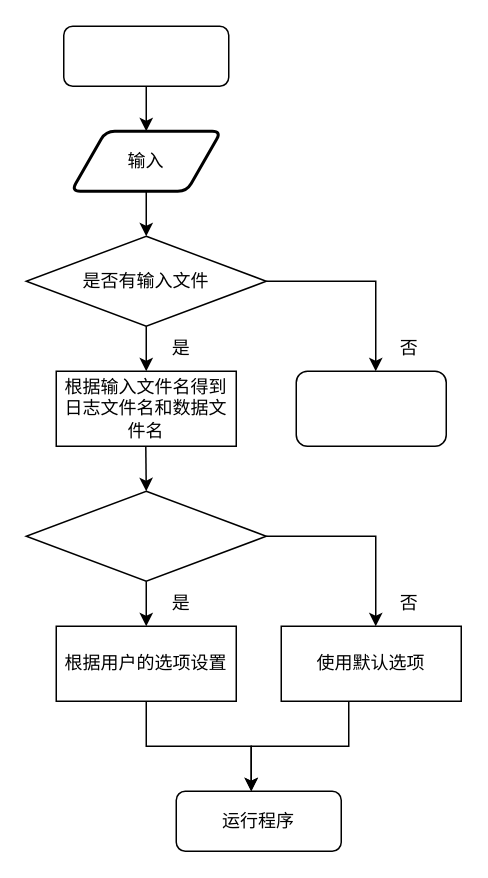
The diagram is 488 pixels wide and 878 high, and some of its shapes have lost their labels. The shapes that lost their labels are listed below. From the top down, each one's centre as x and y in pixels, then its label:
pixel 145 55: 开始
pixel 370 408: 结束
pixel 145 535: 是否有输入选项
